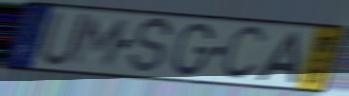A: (253, 29, 301, 84)
C: (218, 23, 268, 83)
G: (170, 22, 215, 78)
M: (68, 15, 132, 69)
S: (126, 16, 175, 77)
U: (35, 8, 92, 70)
